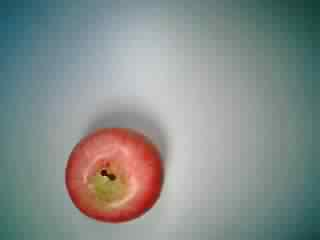apple: (63, 125, 164, 224)
